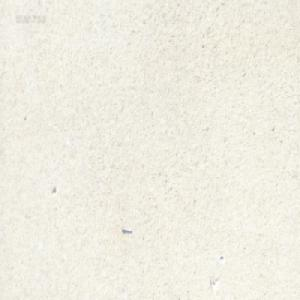Nail: (121, 226, 132, 234)
